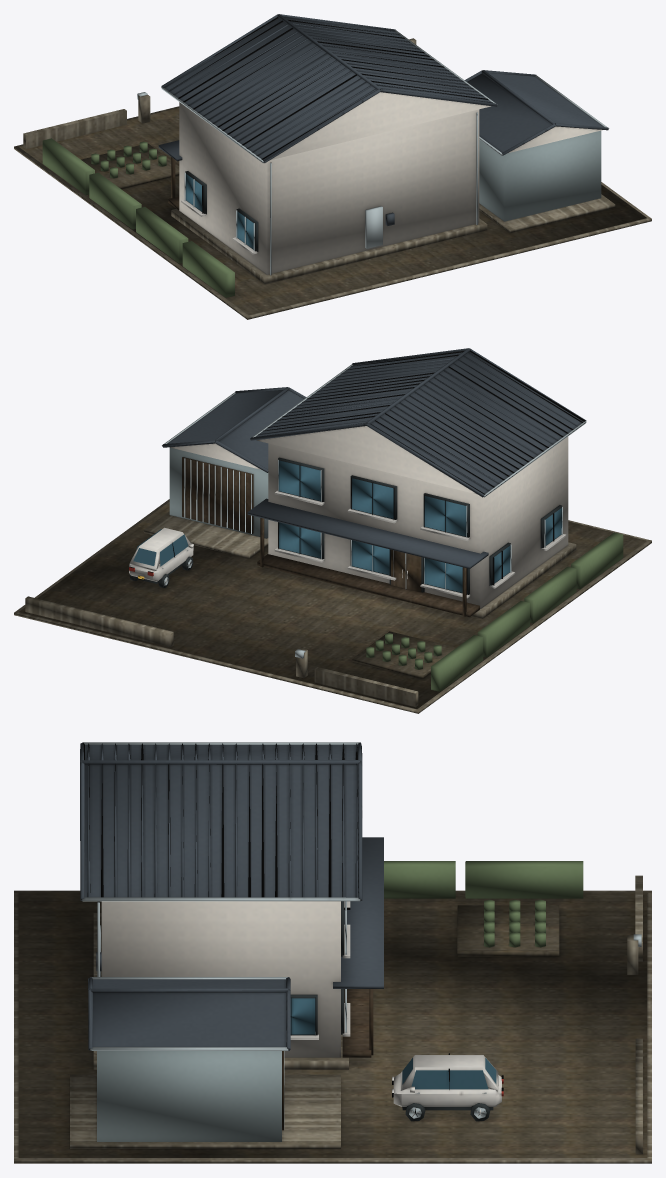
The model's file is rural_house_001.obj.
3 renders of one model, top to bottom at view 1: azimuth 30°, elevation 25°; view 2: azimuth 150°, elevation 25°; view 3: azimuth 270°, elevation 25°, orthographic. The views are drawn at different scales.
Visible parts, largest first — view 1: rural_house_001; view 2: rural_house_001; view 3: rural_house_001.
Part boxes in pixels (<box>): rural_house_001: <box>14,14,651,319</box>; rural_house_001: <box>14,348,651,713</box>; rural_house_001: <box>14,742,651,1163</box>.
Bounding box in the file's own units: 20 × 8.26 × 20.
Materials: 1 (1 with a texture image).
